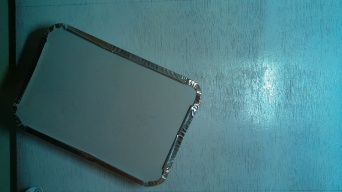f: (14, 21, 194, 189)
